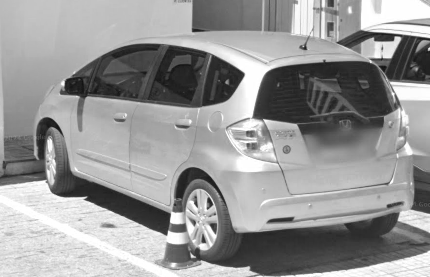car: (32, 30, 414, 264)
